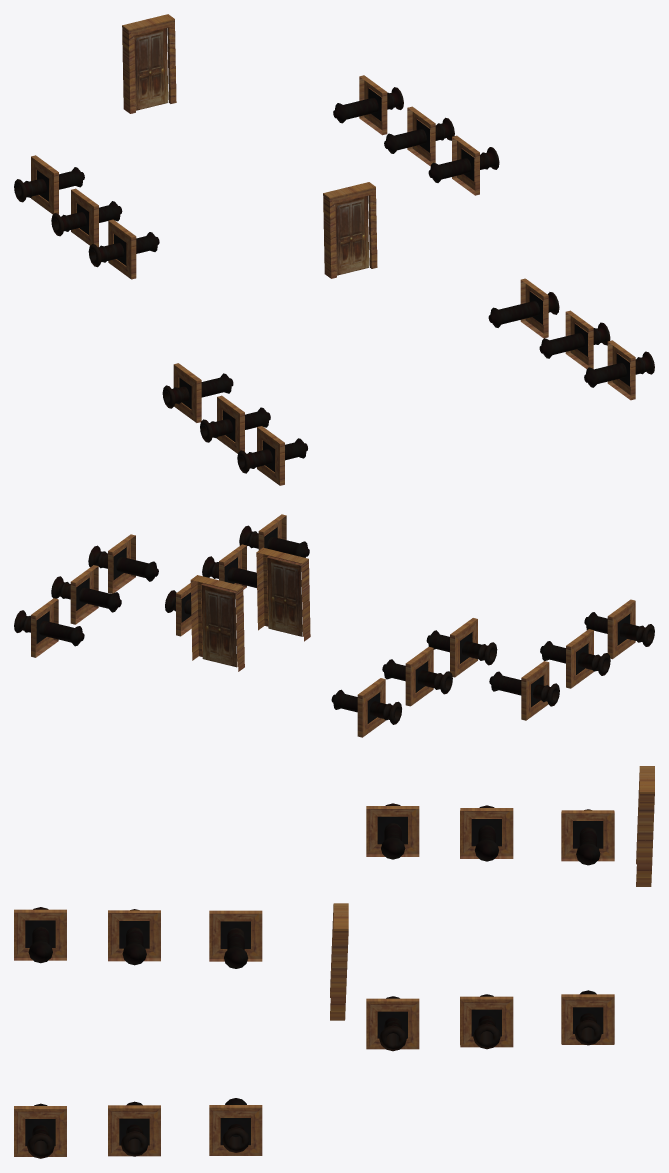
File: carabel_pedreros.dae
The picture shows the model from 3 angles, top to bottom: view 1: azimuth 30°, elevation 25°; view 2: azimuth 150°, elevation 25°; view 3: azimuth 270°, elevation 25°; orthographic projection. The views are drawn at different scales.
Parts seen in each view (by area): view 1: Pedreros; view 2: Pedreros; view 3: Pedreros.
Boxes of the visible parts, x1,y1,x2,y2 form: Pedreros: (14, 14, 654, 485); Pedreros: (14, 514, 654, 737); Pedreros: (14, 766, 654, 1158).
Size of the model in its own units: 19.73 by 23.36 by 10.44.
